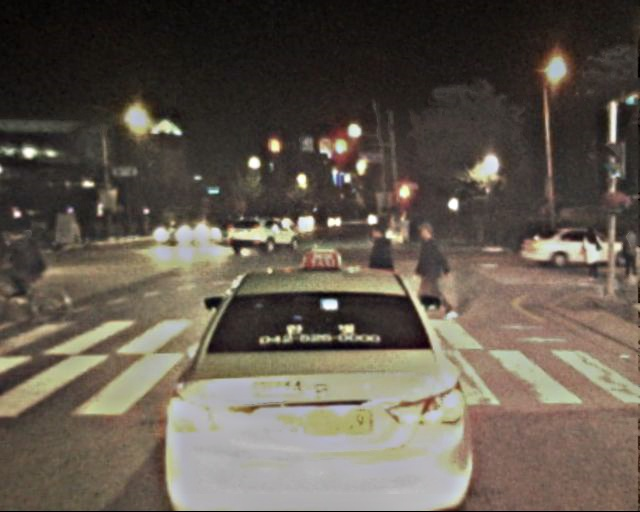person: (1, 221, 58, 305), (411, 222, 453, 325), (365, 225, 404, 321), (617, 227, 639, 285), (580, 228, 602, 281)
